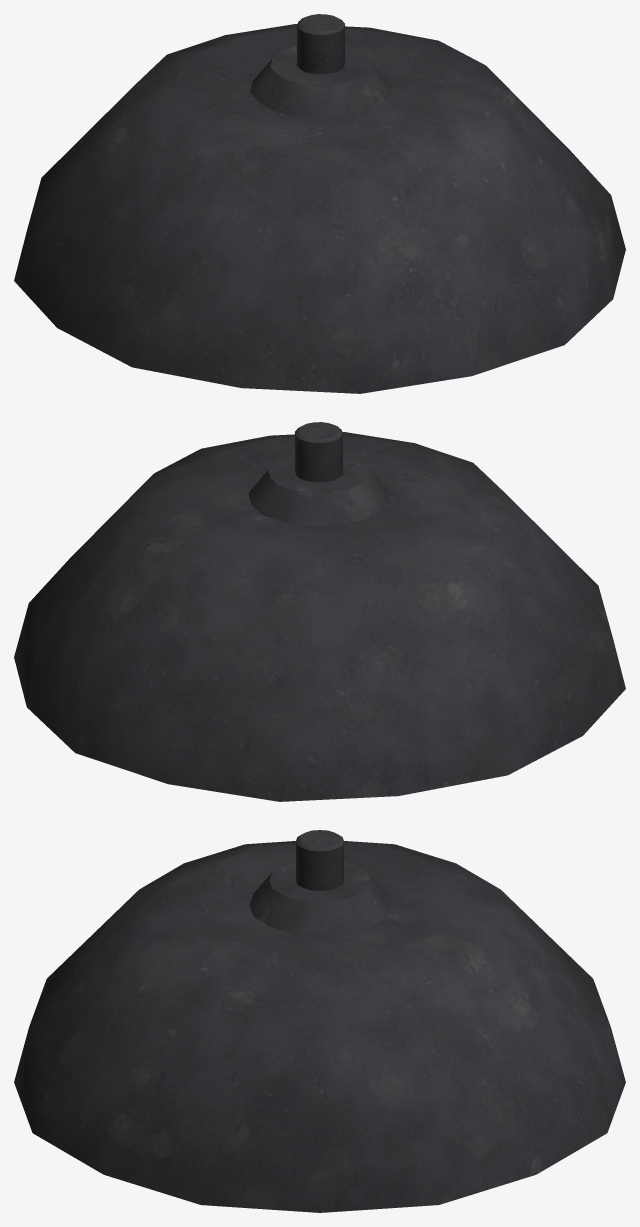
The model's file is Lampara.glb.
3 renders of one model, top to bottom at view 1: azimuth 30°, elevation 25°; view 2: azimuth 150°, elevation 25°; view 3: azimuth 270°, elevation 25°, orthographic.
Visible parts, largest first — view 1: Lamp_Body_001_Props_Normal_02_0.001; view 2: Lamp_Body_001_Props_Normal_02_0.001; view 3: Lamp_Body_001_Props_Normal_02_0.001.
Boxes of the visible parts, x1=… form: Lamp_Body_001_Props_Normal_02_0.001: x1=14, y1=14, x2=625, y2=393; Lamp_Body_001_Props_Normal_02_0.001: x1=14, y1=422, x2=625, y2=801; Lamp_Body_001_Props_Normal_02_0.001: x1=14, y1=830, x2=625, y2=1212.
Size of the model in its own units: 0.5182 by 0.2293 by 0.5182.
1 material, 1 textured.
